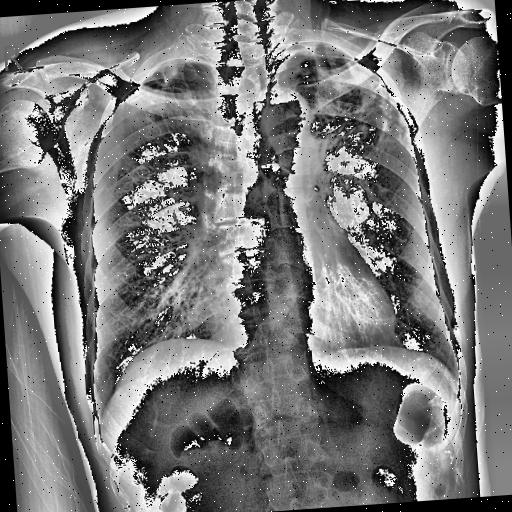0- Aortic enlargement: (258, 82, 310, 140), (256, 86, 309, 134)
11- Pleural thickening: (146, 50, 213, 77), (268, 38, 331, 64), (270, 34, 324, 62), (146, 56, 206, 77)
13- Pulmonary fibrosis: (269, 44, 398, 176), (280, 43, 408, 156), (289, 46, 408, 164), (131, 59, 223, 166), (141, 66, 234, 137), (153, 66, 208, 170)
6- Infiltration: (269, 44, 398, 176), (141, 66, 234, 137)
